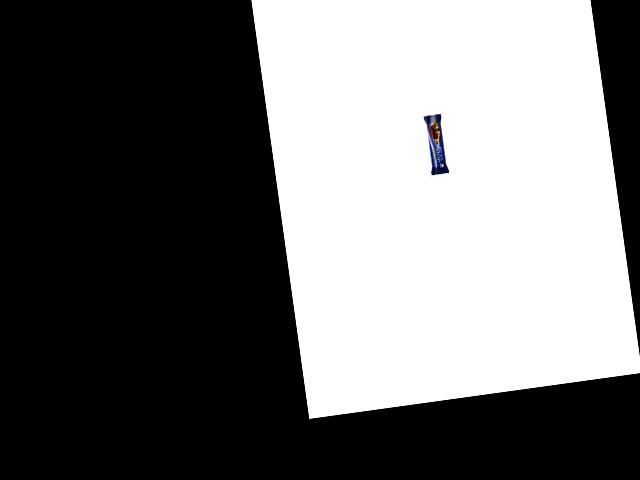chocolate: (421, 105, 455, 176)
